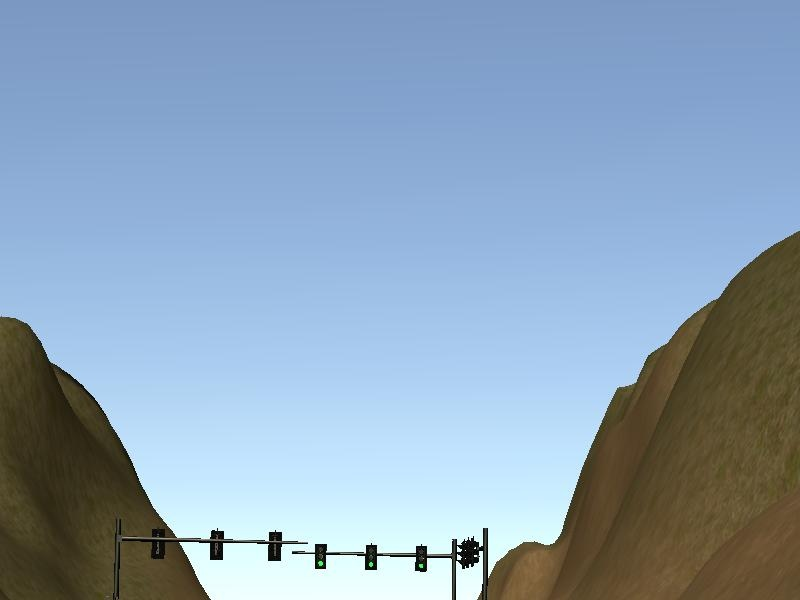green: (364, 545, 378, 571), (314, 543, 327, 570), (415, 546, 428, 573)
